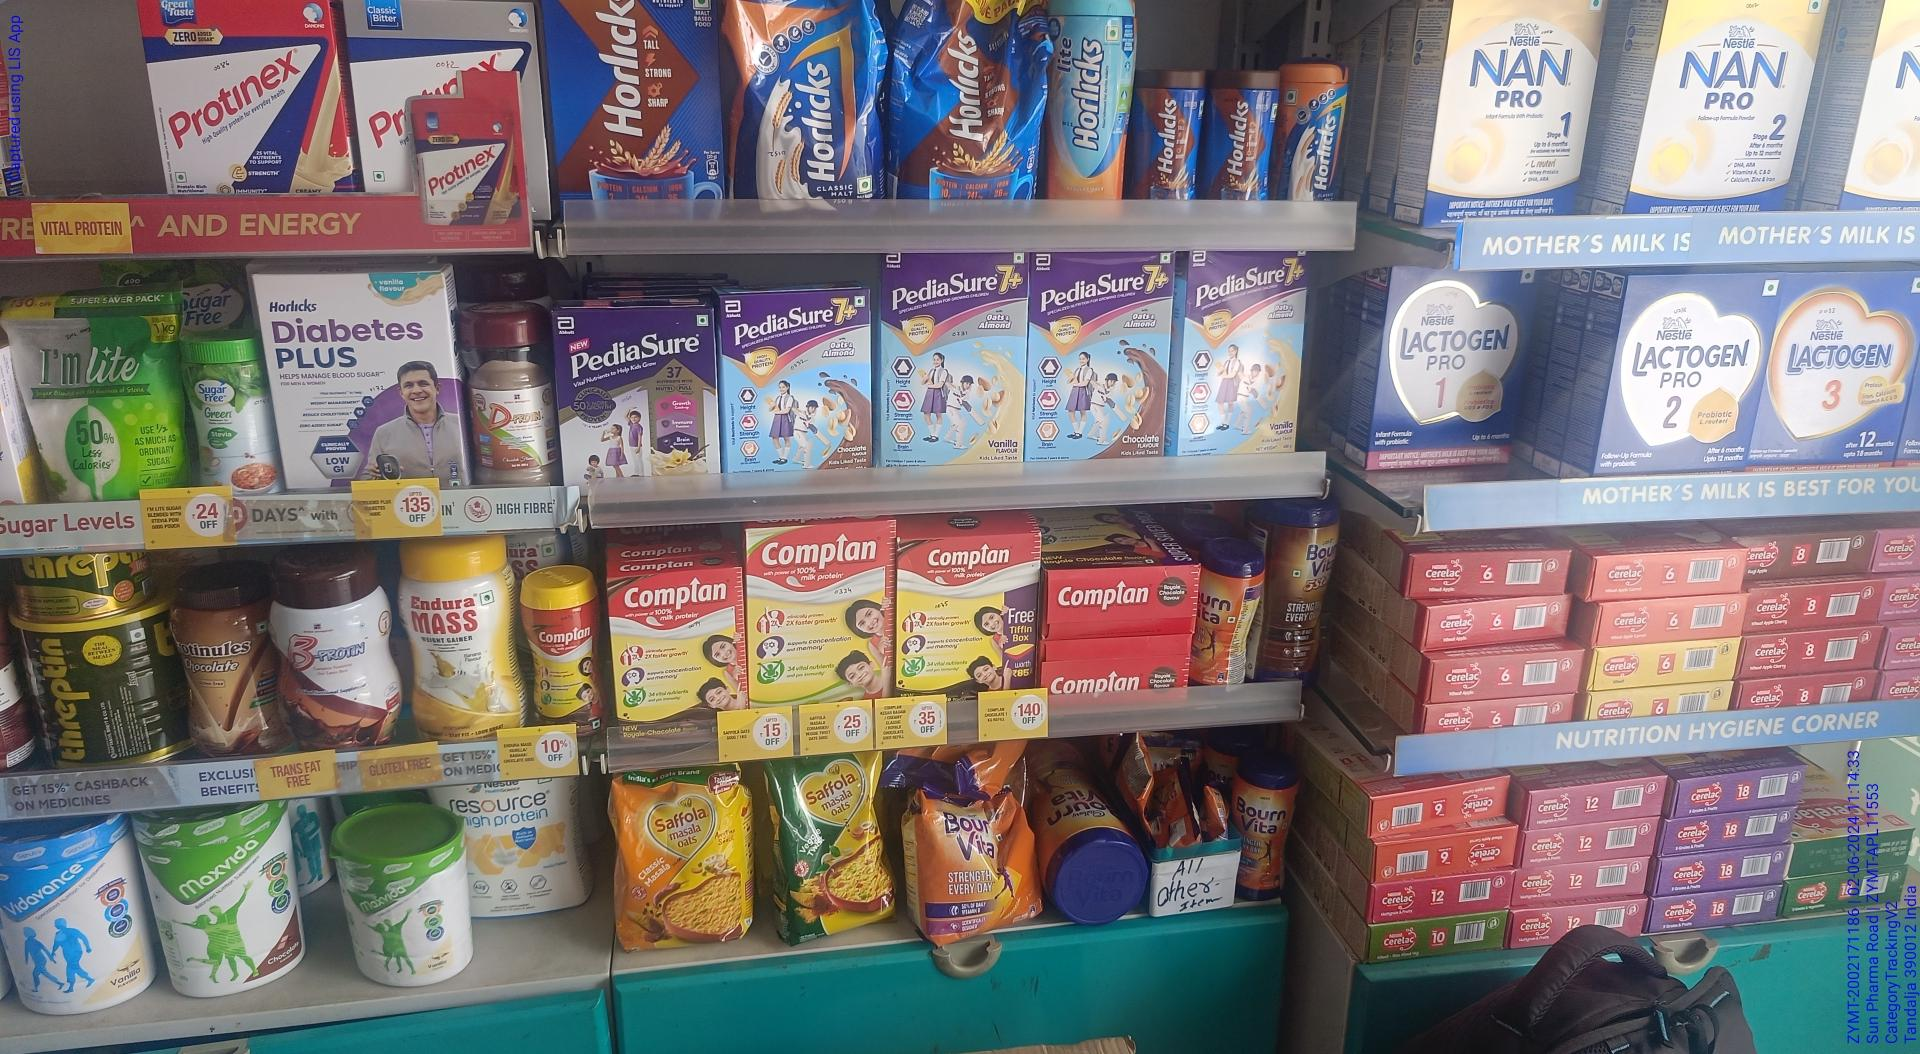HORLICKS_LITE_REGULAR_MALT_500_GM_JAR: (1044, 0, 1135, 199)
HORLICK_CLASSIC_MALT_200_G_JAR: (1277, 62, 1347, 201)
PEDIASURE_7_PLUS_CHOCOLATE_400_G_PACK: (724, 286, 869, 470)
PEDIASURE_VANILLA_500_G_PACK: (551, 304, 716, 484)
